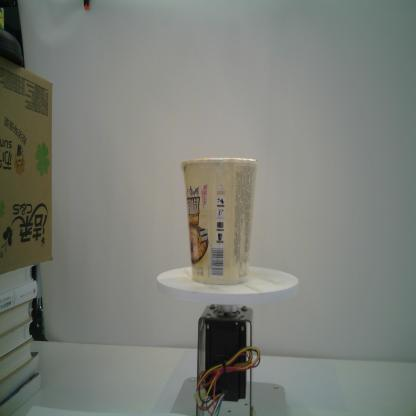Instant Noodles: (181, 157, 259, 286)
